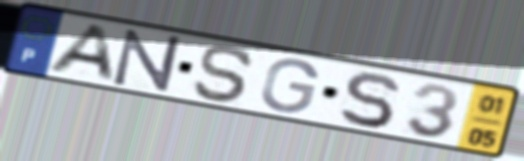3: (405, 82, 463, 140)
A: (42, 22, 119, 85)
G: (257, 57, 322, 116)
N: (111, 27, 184, 94)
S: (190, 43, 258, 106), (336, 70, 402, 129)
